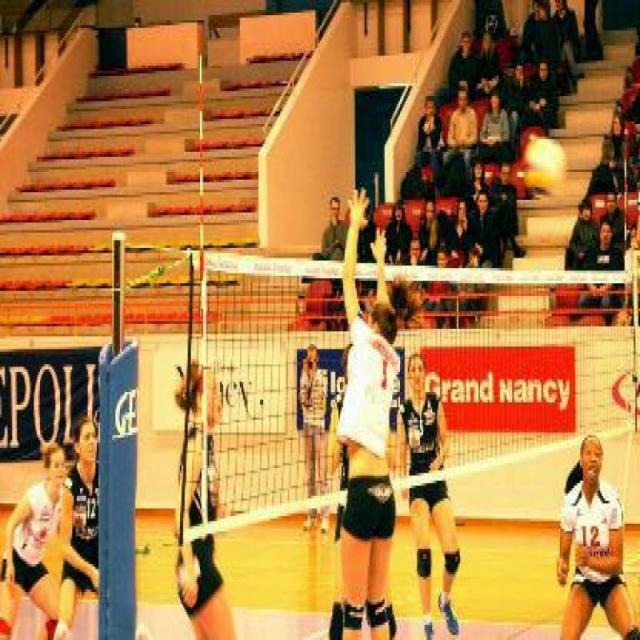volleyball: (520, 134, 566, 202)
